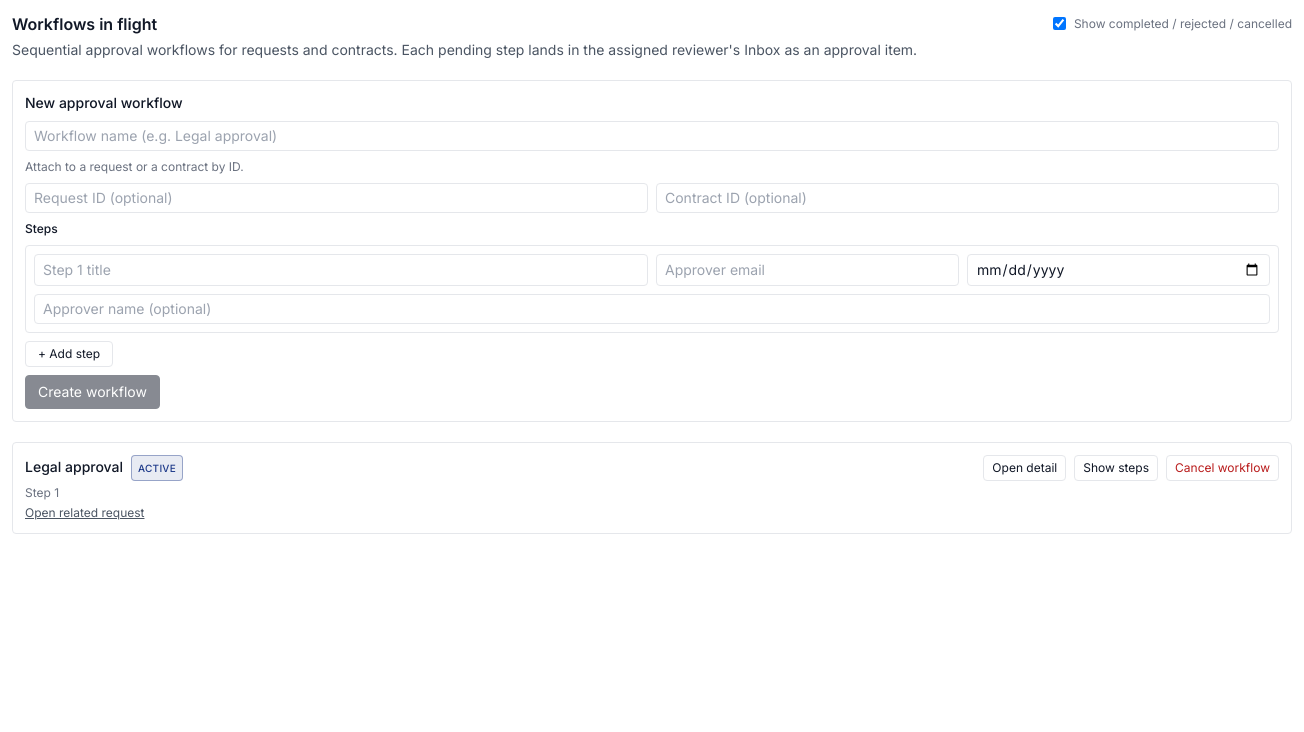
ApprovalWorkflowsPage › cancels an active workflow
The width and height of the screenshot is (1304, 732).
Expected: the text "Legal approval" is shown, x1=25 y1=457 x2=123 y2=477
Click the button with test id "approvals-cancel" at (1222, 468), box x1=1166 y1=455 x2=1279 y2=481
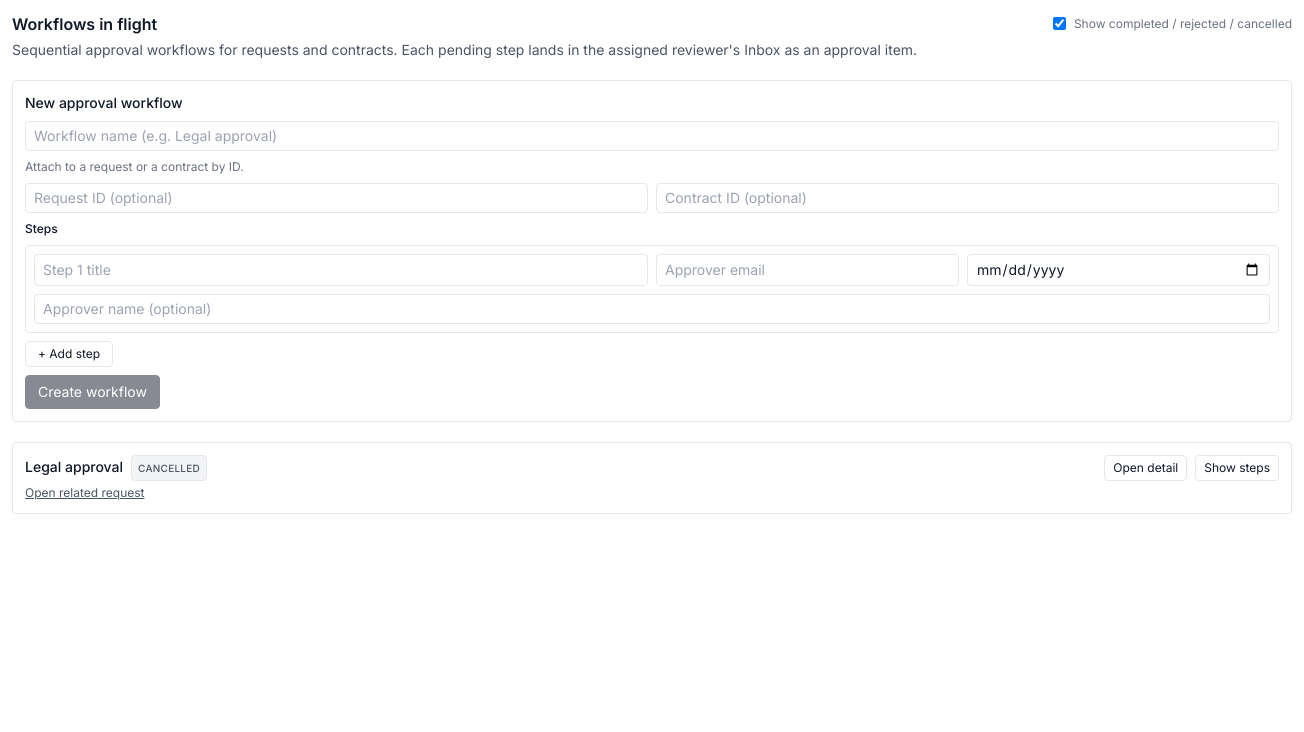
Expected: the text with test id "approval-status" reads "cancelled", x1=138 y1=462 x2=200 y2=474
